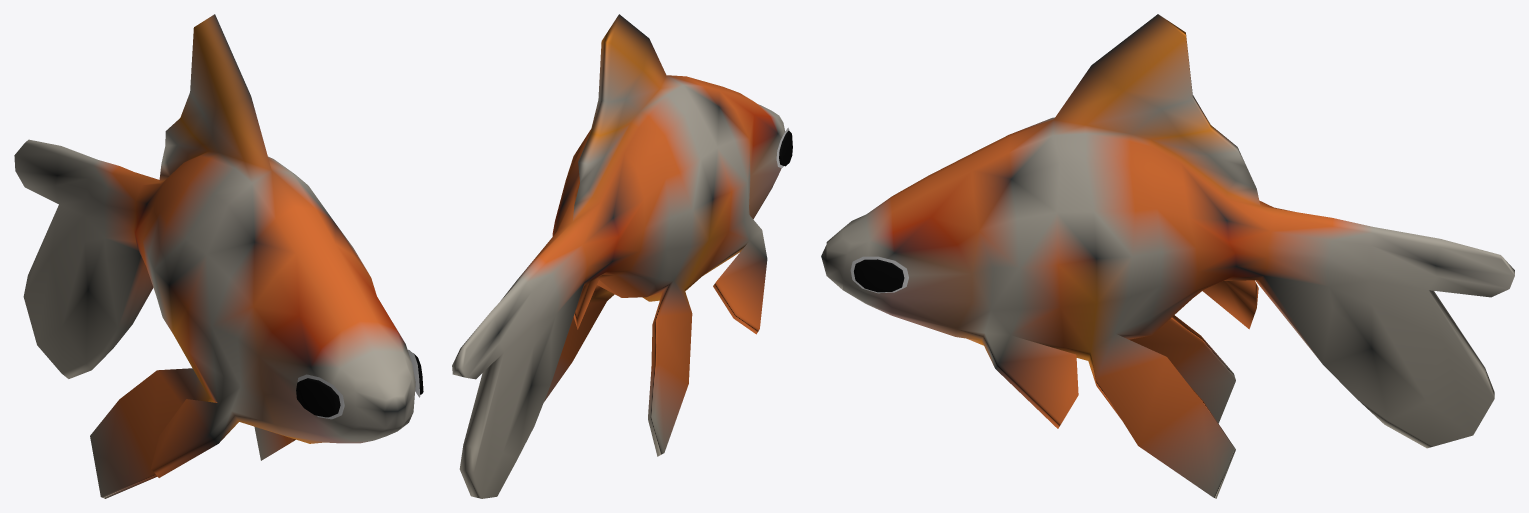
The picture shows the model from 3 angles, left to right: view 1: azimuth 30°, elevation 25°; view 2: azimuth 150°, elevation 25°; view 3: azimuth 270°, elevation 25°; orthographic projection. The views are drawn at different scales.
Visible parts, largest first — view 1: base.823; view 2: base.823; view 3: base.823.
Part boxes in pixels (x1,y1,x2,y2): base.823: (14,14,423,498); base.823: (452,14,792,498); base.823: (821,14,1514,498).
Bounding box in the file's own units: 0.1784 × 0.3579 × 0.5.
